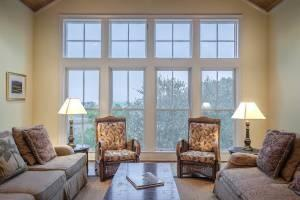window: (58, 15, 236, 152)
